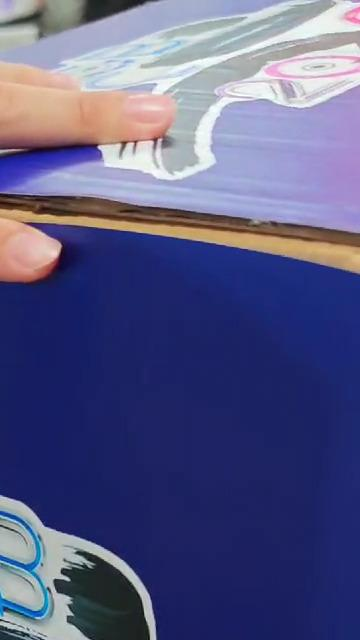B_R1: (0, 409, 314, 640)
